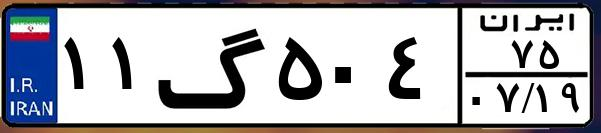0: (330, 28, 385, 110), (470, 70, 495, 125)
1: (57, 26, 110, 100), (110, 28, 156, 98), (535, 70, 560, 125)
4: (385, 28, 445, 110)
5: (270, 28, 330, 110), (537, 27, 568, 80)
7: (508, 27, 537, 80), (495, 70, 520, 125)
9: (560, 70, 590, 125)
گ: (156, 12, 270, 120)
